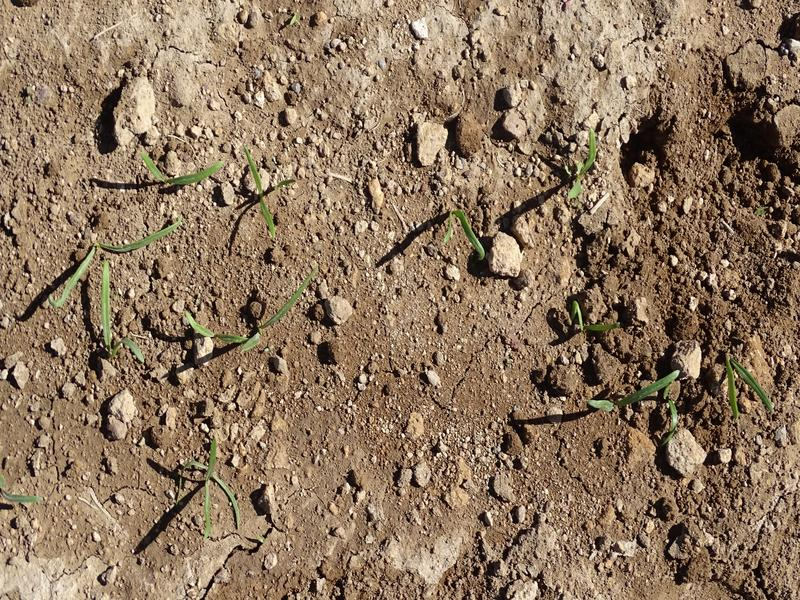Espinaca: (45, 227, 186, 287), (246, 270, 322, 351), (587, 370, 683, 430), (192, 433, 244, 537), (95, 259, 145, 365), (719, 353, 777, 432), (136, 146, 224, 189), (240, 142, 279, 237), (440, 204, 487, 259), (184, 308, 248, 344), (567, 129, 597, 196)
